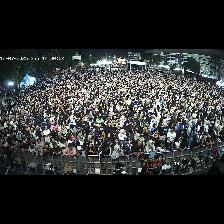person: (99, 144, 111, 169), (85, 143, 97, 161), (145, 131, 155, 148), (132, 140, 144, 154), (167, 129, 175, 150), (112, 146, 124, 159), (50, 143, 62, 155), (155, 140, 167, 152), (189, 127, 196, 147), (151, 123, 159, 140), (160, 122, 167, 141), (122, 122, 132, 135), (179, 119, 187, 135), (190, 136, 200, 148), (95, 135, 103, 150), (119, 129, 126, 146), (130, 120, 139, 133), (146, 140, 155, 153), (122, 143, 130, 157), (132, 134, 142, 145), (56, 131, 66, 142), (59, 139, 68, 151), (104, 133, 113, 145), (19, 141, 28, 152), (28, 141, 35, 155), (125, 137, 132, 151), (50, 138, 59, 148), (43, 143, 51, 154), (36, 137, 44, 148), (130, 129, 137, 141), (181, 136, 188, 148), (112, 138, 121, 147), (98, 130, 106, 140), (197, 130, 203, 143), (175, 138, 182, 149), (72, 137, 79, 148), (59, 125, 67, 134), (82, 139, 88, 151), (0, 138, 8, 147), (78, 133, 84, 145), (45, 133, 52, 143), (205, 135, 212, 145), (104, 122, 111, 132), (120, 116, 126, 127), (187, 124, 192, 137), (20, 134, 27, 143), (77, 146, 84, 155), (36, 146, 43, 155), (88, 135, 94, 145), (15, 141, 20, 153), (212, 136, 219, 144), (44, 126, 50, 135), (140, 168, 149, 174), (41, 133, 45, 142), (68, 135, 72, 143)
